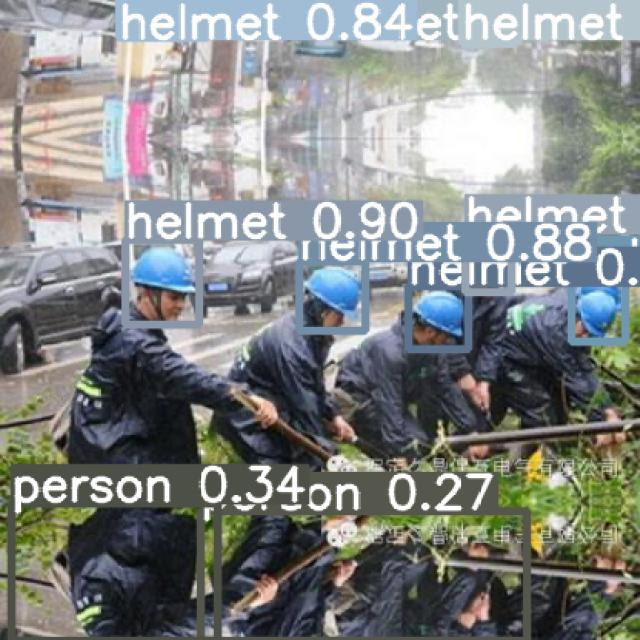Helmet: (303, 266, 362, 327), (129, 245, 196, 294), (412, 290, 464, 339), (575, 289, 617, 337)
